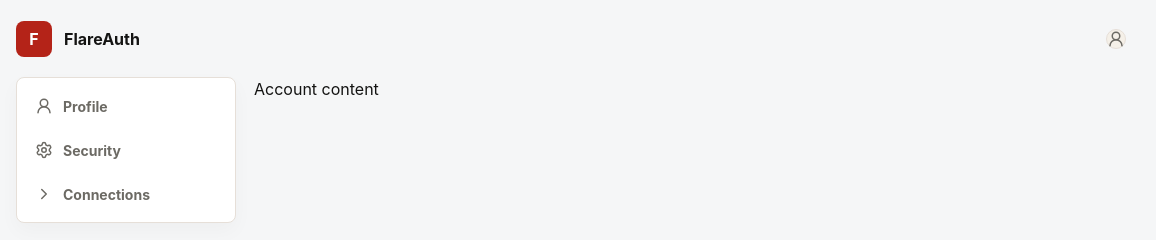
Test: AccountPageShell › hides the Console entry from the avatar menu for non-admins
The width and height of the screenshot is (1156, 240).
Step 1. Click the button named "Account menu" → x=1116, y=39, box [1096,19,1136,59]
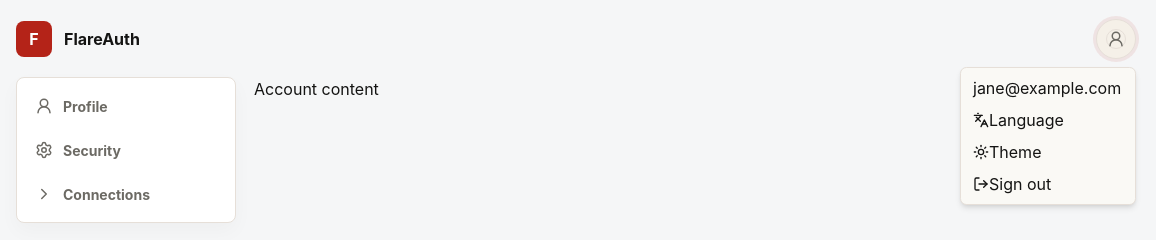
Expected: the text "jane@example.com" is shown, [973,76,1121,100]
